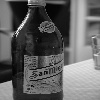beer: (12, 2, 62, 100)
